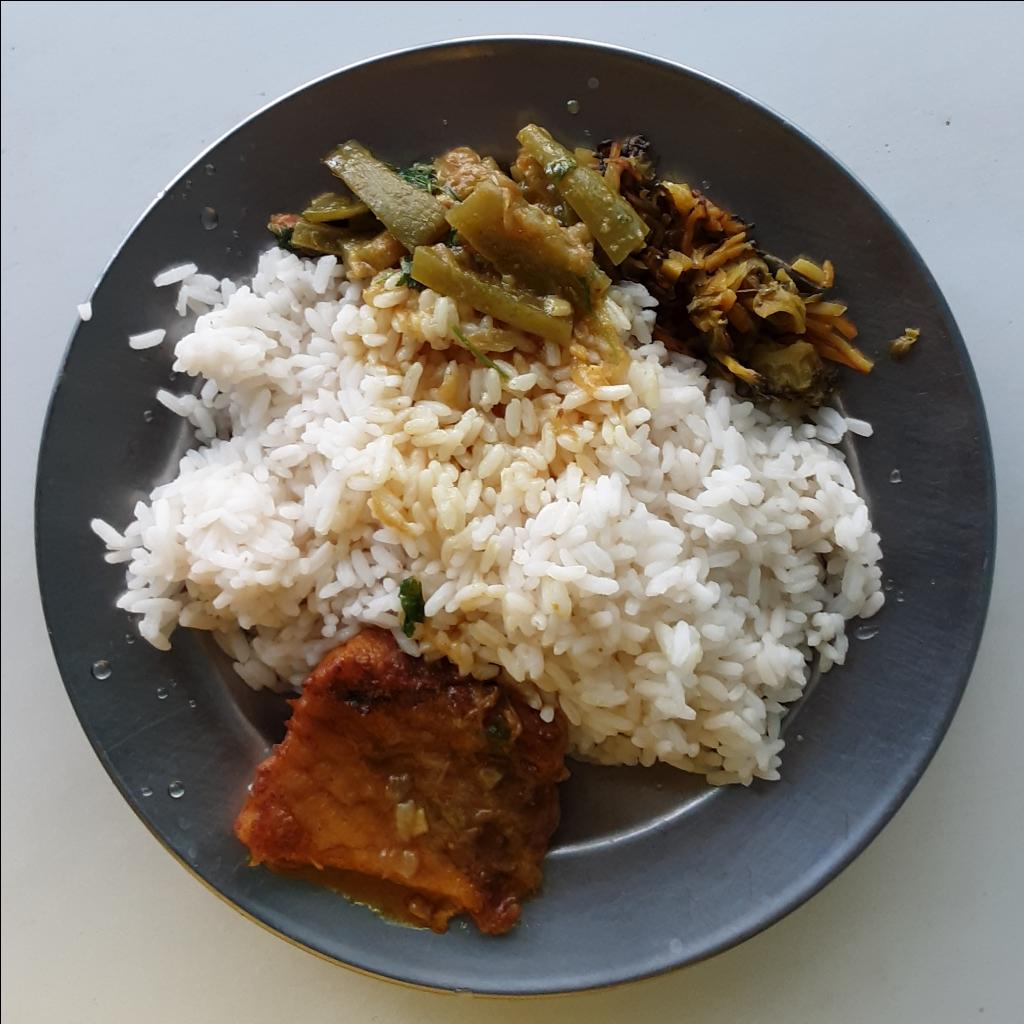fish: (228, 627, 569, 936)
korola-vaji: (599, 126, 877, 401)
rice: (88, 247, 882, 789)
shak: (261, 123, 656, 347)
